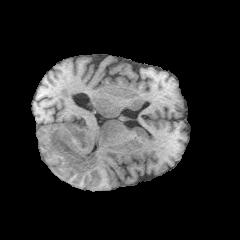glioma: (48, 128, 97, 174)
